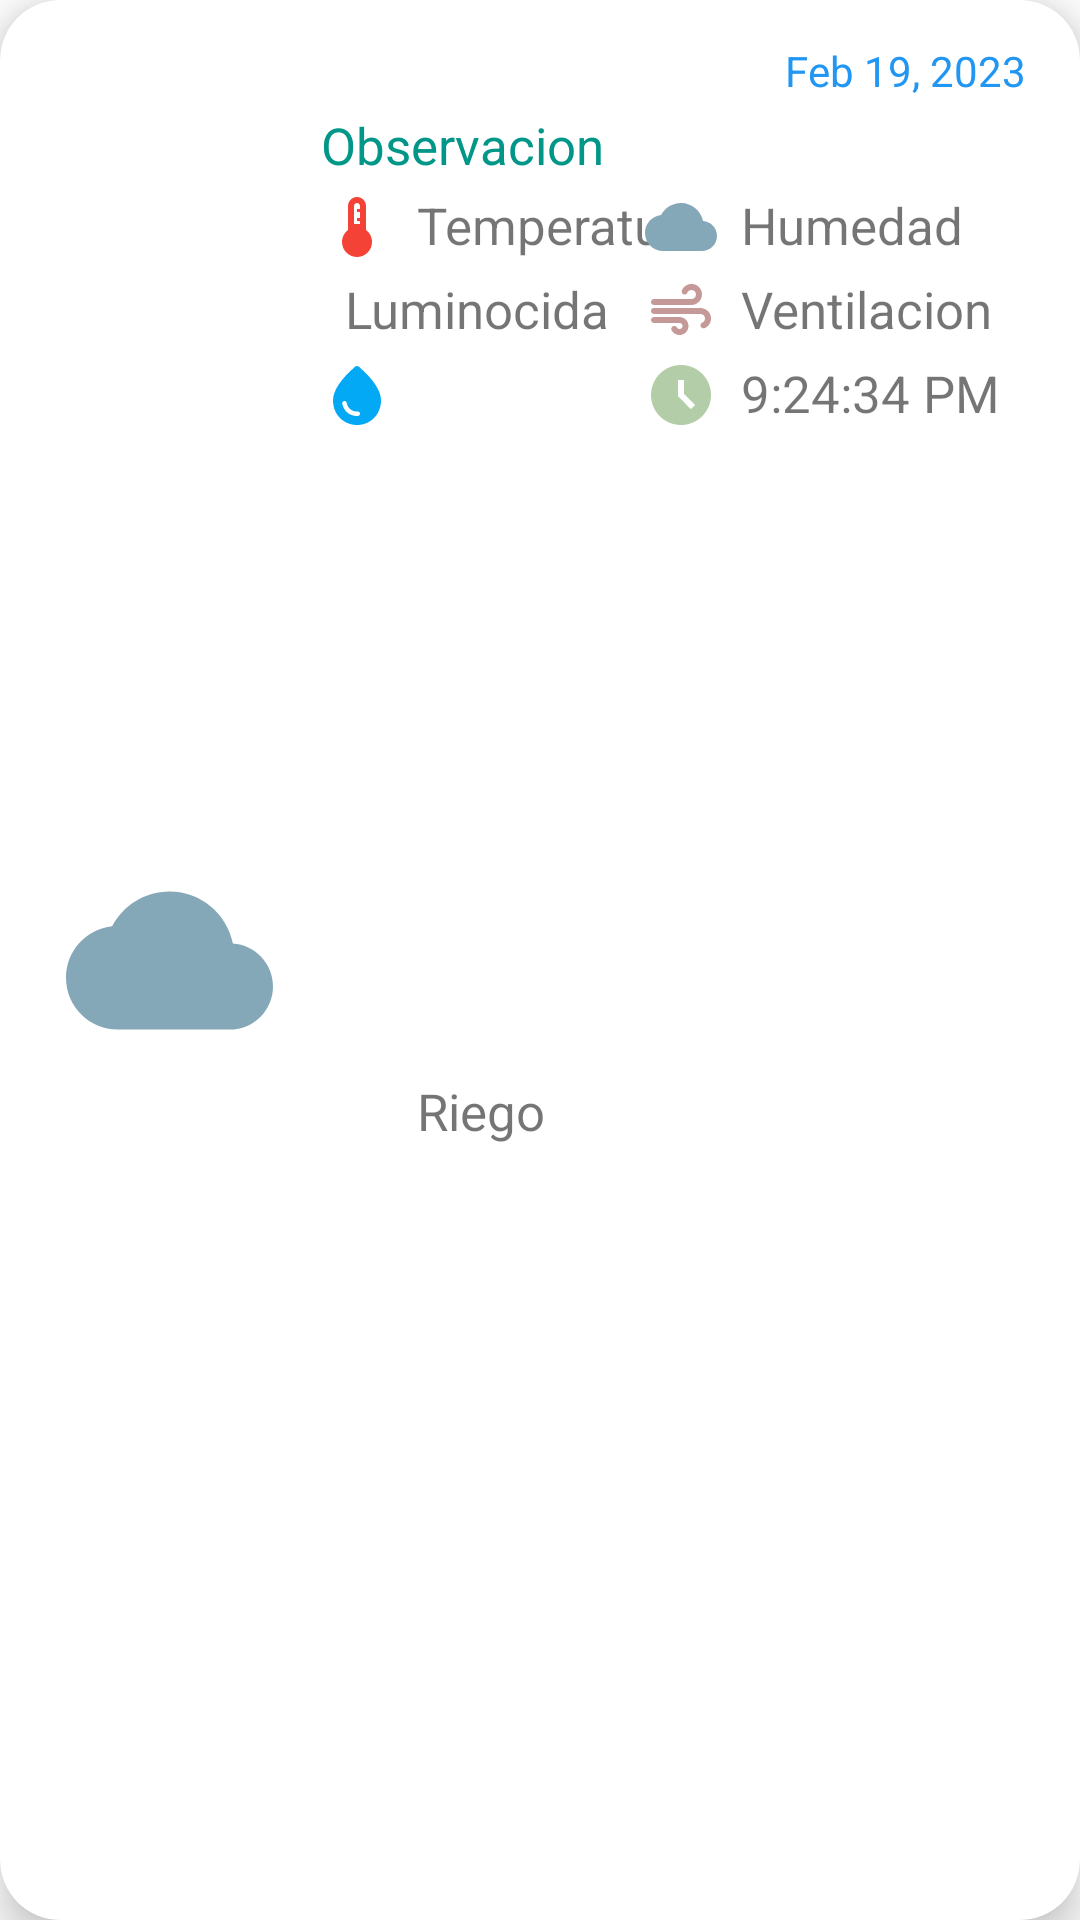

Point at icon controls on the screen. Image size 1080 x 1920, points as point (x, y).
reloj: point (681, 395)
riego: point (357, 395)
termometro: point (357, 227)
